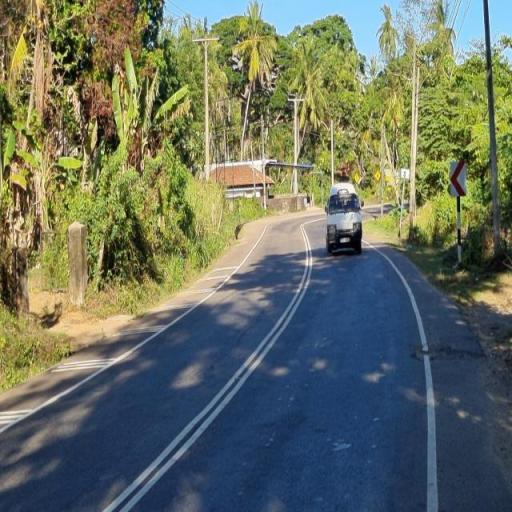double_white_line: (102, 220, 317, 511)
